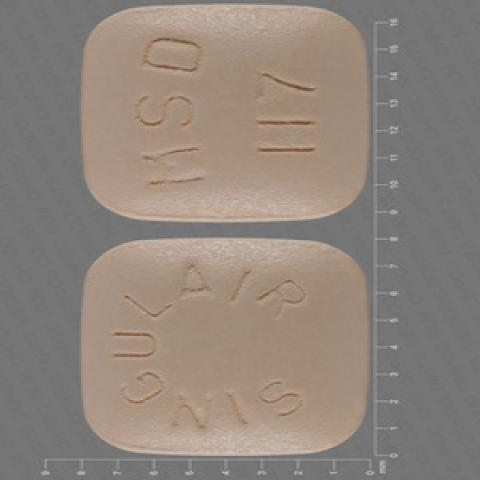Pill: (66, 224, 379, 468), (62, 4, 397, 229)
